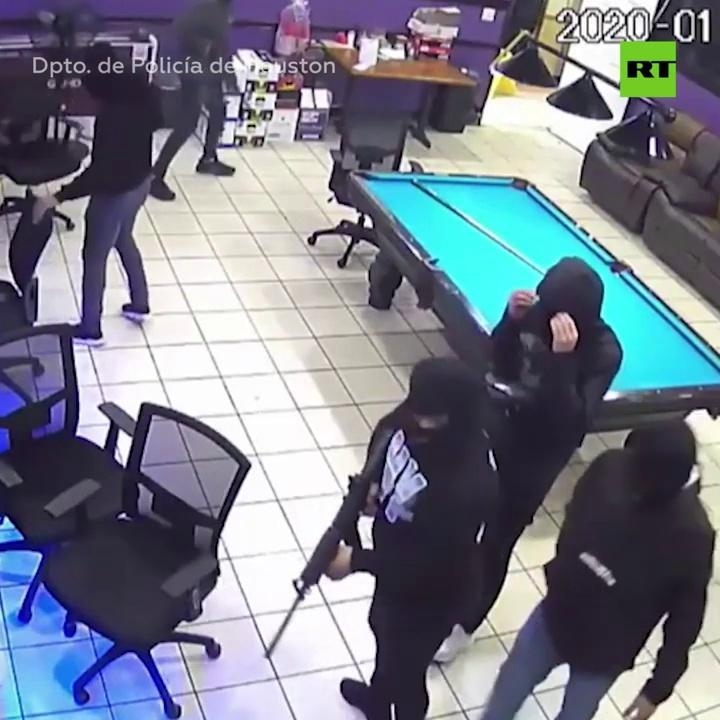Long guns: (257, 415, 405, 665)
